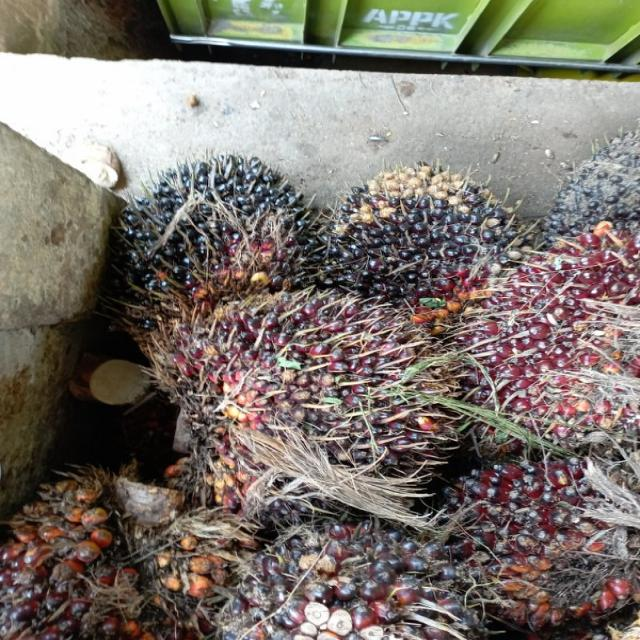fraksi 00: (120, 154, 316, 327), (317, 168, 521, 305)
fraksi 1: (138, 283, 450, 489), (466, 231, 640, 452), (449, 439, 640, 637)
